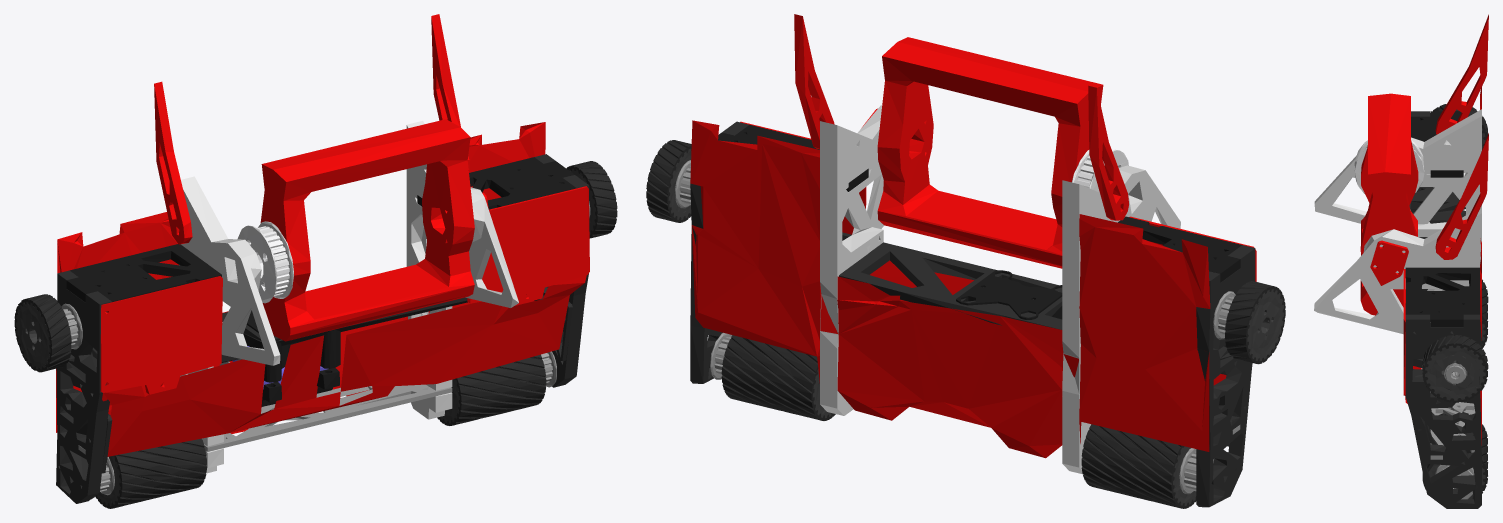
Rendered from rig.glb.
The picture shows the model from 3 angles, left to right: view 1: azimuth 30°, elevation 25°; view 2: azimuth 150°, elevation 25°; view 3: azimuth 270°, elevation 25°; orthographic projection. The views are drawn at different scales.
Visible parts, largest first — view 1: Central_Top_Plate_1, Revised-asymmetrical_weapon_v1_1, Core_Upright_Rail_Right_1, Front_Top_Plate_Left_1, Front_Top_Plate_Right_1, Outer_Wall_Rail_Left_1, MK3_Cast_Rear_Wheels_v9_1, Front_Wall_Left_1, MK3_Cast_Rear_Wheels_v9_1_1, MK3_Cast_Front_Wheels_v7_1, Left_Bottom_Plate_1, Rear_Central_Frame_Rail_1 (+9 smaller); view 2: Central_Bottom_Plate_1, Left_Bottom_Plate_1, Left_Bottom_Plate_Mirror_1, Revised-asymmetrical_weapon_v1_1, Core_Upright_Rail_Right_1, Outer_Wall_Rail_Left_1, MK3_Cast_Rear_Wheels_v9_1, MK3_Cast_Rear_Wheels_v9_1_1, Central_Frame_Rail_1, MK3_Cast_Front_Wheels_v7_1, MK3_Cast_Front_Wheels_v6_Mirror_1, Rhino_Fork_v13_v2_1 (+7 smaller); view 3: Core_Upright_Rail_Right_1, Outer_Wall_Rail_Right_1, Revised-asymmetrical_weapon_v1_1, Front_Wall_Right_1, MK3_Cast_Front_Wheels_v6_Mirror_1, Rhino_Fork_v13_v2_2, Rhino_Fork_v13_v2_1, Shaft_End_Stop_Right_1, Front_Wall_Left_1, Central_Frame_Rail_1, MK3_Cast_Rear_Wheels_v9_1_1, 1277N771_Timing_Belt_Pulley_v2_1 (+5 smaller).
Part boxes in pixels (<box>): Central_Top_Plate_1: <box>102,275,586,456</box>; Revised-asymmetrical_weapon_v1_1: <box>260,119,474,341</box>; Core_Upright_Rail_Right_1: <box>179,121,518,473</box>; Front_Top_Plate_Left_1: <box>100,276,222,394</box>; Front_Top_Plate_Right_1: <box>467,186,589,304</box>; Outer_Wall_Rail_Left_1: <box>56,270,111,503</box>; MK3_Cast_Rear_Wheels_v9_1: <box>91,438,206,508</box>; Front_Wall_Left_1: <box>66,244,221,302</box>; MK3_Cast_Rear_Wheels_v9_1_1: <box>437,351,556,425</box>; MK3_Cast_Front_Wheels_v7_1: <box>14,294,82,372</box>; Left_Bottom_Plate_1: <box>56,212,178,432</box>; Rear_Central_Frame_Rail_1: <box>204,384,452,451</box>; Central_Bottom_Plate_1: <box>820,276,1078,458</box>; Left_Bottom_Plate_1: <box>1079,214,1210,451</box>; Left_Bottom_Plate_Mirror_1: <box>690,120,820,383</box>; Revised-asymmetrical_weapon_v1_1: <box>877,37,1103,268</box>; Core_Upright_Rail_Right_1: <box>820,105,1180,474</box>; Outer_Wall_Rail_Left_1: <box>1196,245,1255,507</box>; MK3_Cast_Rear_Wheels_v9_1: <box>1081,424,1213,508</box>; MK3_Cast_Rear_Wheels_v9_1_1: <box>710,332,835,420</box>; Central_Frame_Rail_1: <box>839,232,1231,359</box>; MK3_Cast_Front_Wheels_v7_1: <box>1213,281,1285,364</box>; MK3_Cast_Front_Wheels_v6_Mirror_1: <box>646,140,691,222</box>; Rhino_Fork_v13_v2_1: <box>1088,85,1128,220</box>; Core_Upright_Rail_Right_1: <box>1314,109,1481,415</box>; Outer_Wall_Rail_Right_1: <box>1405,314,1481,508</box>; Revised-asymmetrical_weapon_v1_1: <box>1360,93,1418,315</box>; Front_Wall_Right_1: <box>1405,267,1479,326</box>; MK3_Cast_Front_Wheels_v6_Mirror_1: <box>1422,335,1488,402</box>; Rhino_Fork_v13_v2_2: <box>1435,133,1488,259</box>; Rhino_Fork_v13_v2_1: <box>1435,14,1488,134</box>; Shaft_End_Stop_Right_1: <box>1370,240,1408,285</box>; Front_Wall_Left_1: <box>1411,111,1463,177</box>; Central_Frame_Rail_1: <box>1409,187,1465,376</box>; MK3_Cast_Rear_Wheels_v9_1_1: <box>1422,412,1488,499</box>; 1277N771_Timing_Belt_Pulley_v2_1: <box>1354,140,1424,193</box>.
Size of the model in its own units: 0.4441 by 0.2914 by 0.1352.
